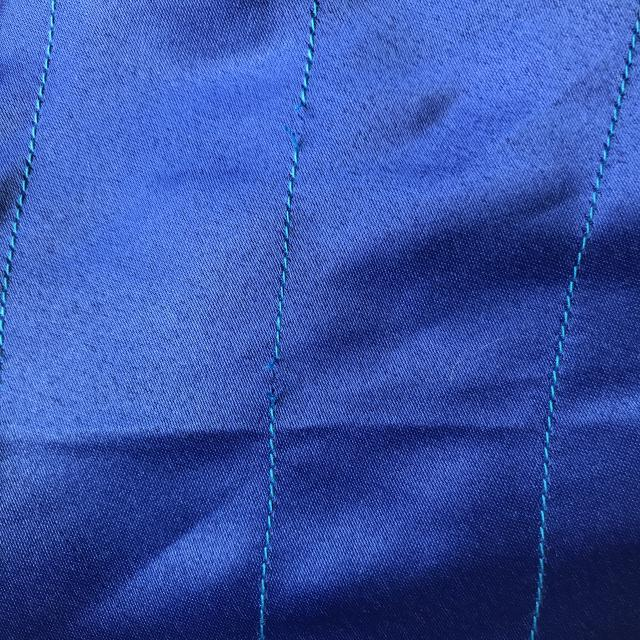broken: (260, 78, 334, 177), (253, 328, 309, 423)
